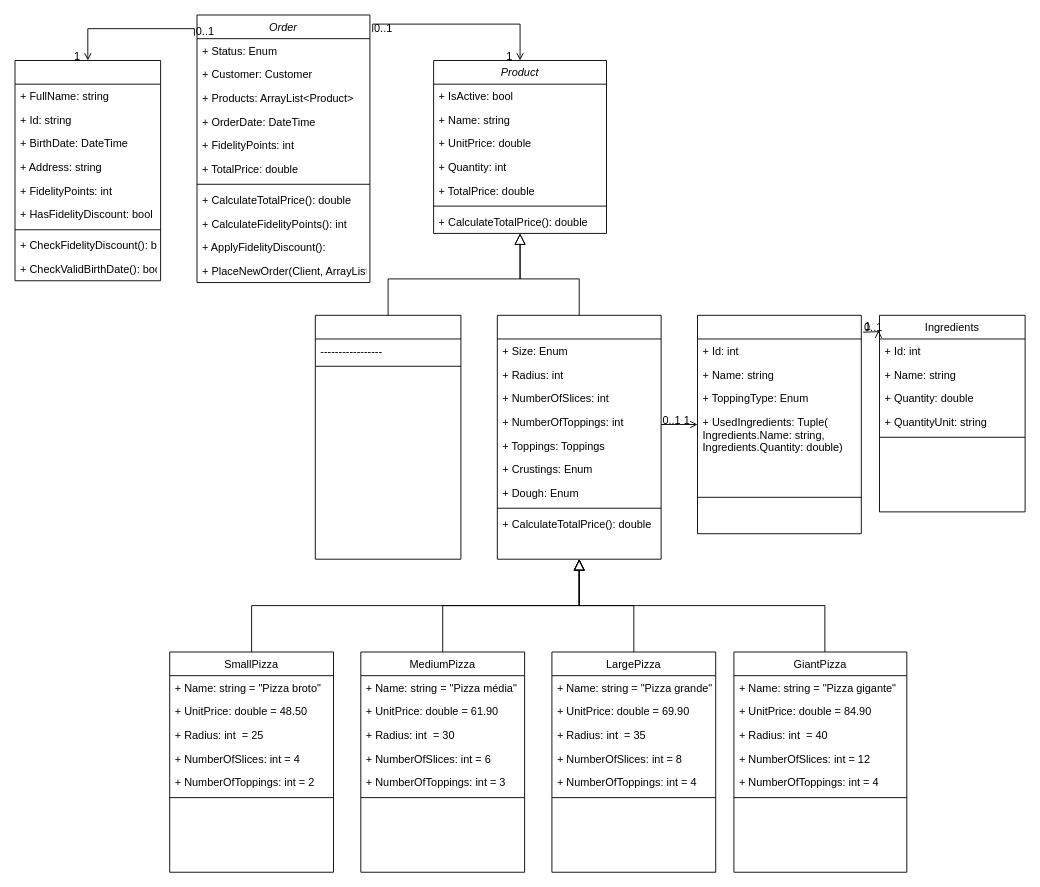
Image size: 1040x887. Some labels were removed from this diagram. Each missing label, with the box of its shape:
Customer: (14, 60, 161, 281)
Drink: (314, 314, 461, 559)
Pizza: (496, 314, 661, 559)
Toppings: (697, 314, 861, 534)
